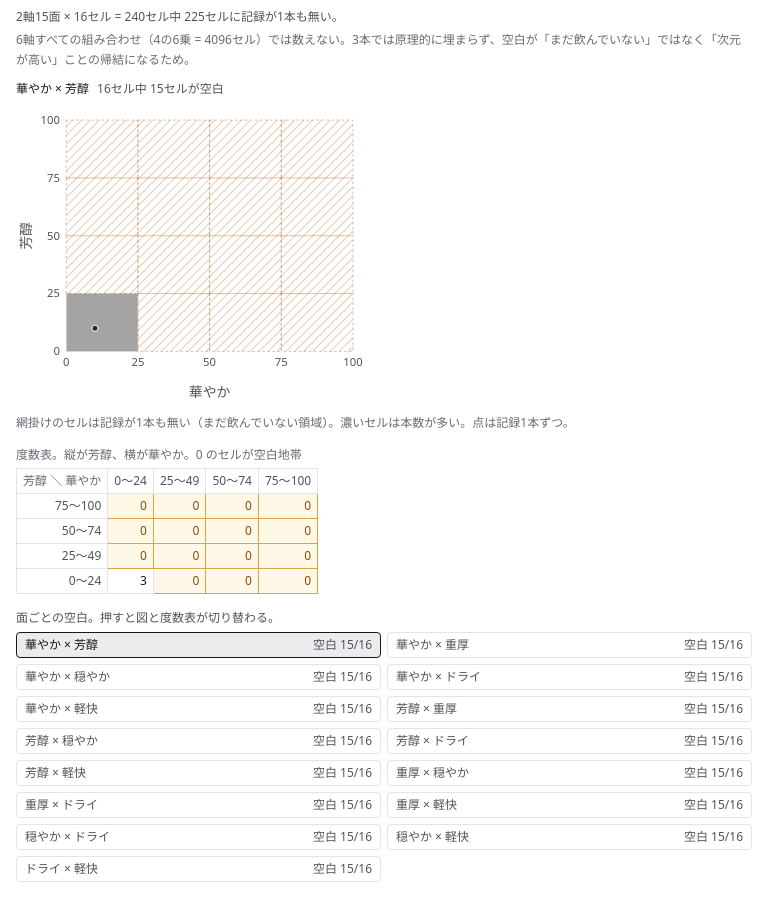
Test case: 空白地帯 › 面を切り替えると図と表がその面になる
This screenshot has width=769, height=898.
(page scrolled)
Expected: the text "16セル中 15セルが空白" is shown, [97,81,224,97]
Click the button "重厚 × 軽快 空白 15/16": (427, 805) [387,792,752,818]
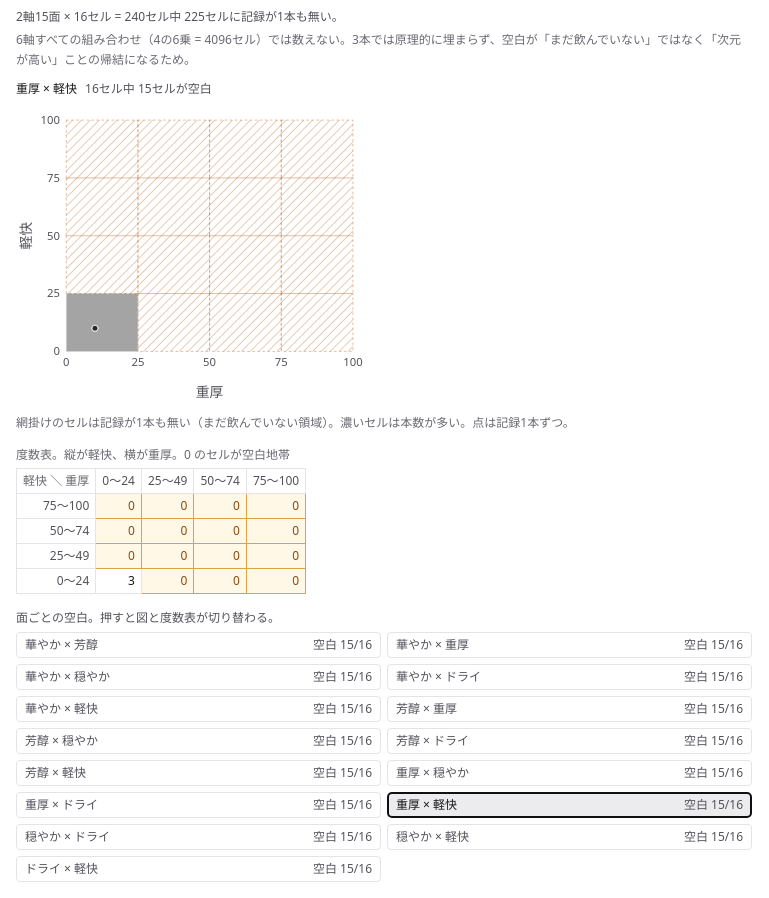
Expected: the text "16セル中 15セルが空白" is shown, [16,80,212,97]
Result: the text "16セル中 15セルが空白" shows "重厚 × 軽快" at [16,80,77,97]
Result: the table shows "重厚" at [148,446,172,463]
